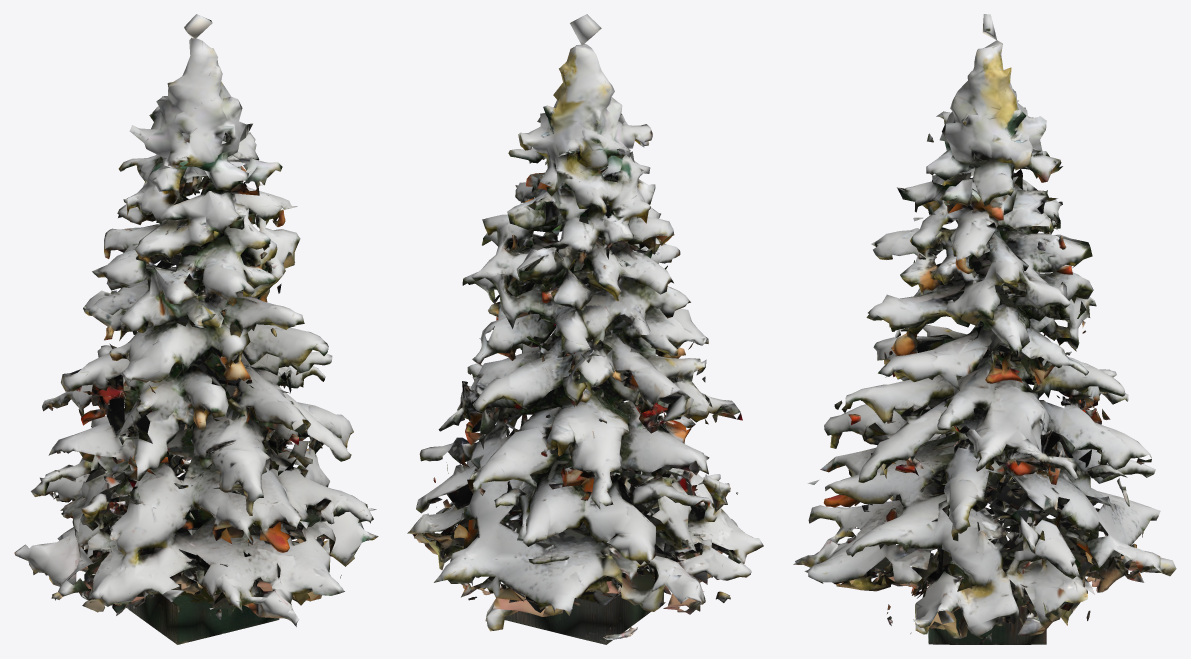
Rendered from Meshy_AI_Winter_Wonderland_Tre_0102103543_texture.fbx.
3 renders of one model, left to right at view 1: azimuth 30°, elevation 25°; view 2: azimuth 150°, elevation 25°; view 3: azimuth 270°, elevation 25°, orthographic.
Visible parts, largest first — view 1: Mesh_0; view 2: Mesh_0; view 3: Mesh_0.
Part boxes in pixels (box(x1,y1,x2,y2)): Mesh_0: box(14, 14, 378, 644); Mesh_0: box(407, 14, 763, 644); Mesh_0: box(793, 14, 1176, 644).
Bounding box in the file's own units: 102 × 191 × 110.
1 material, 1 textured.
